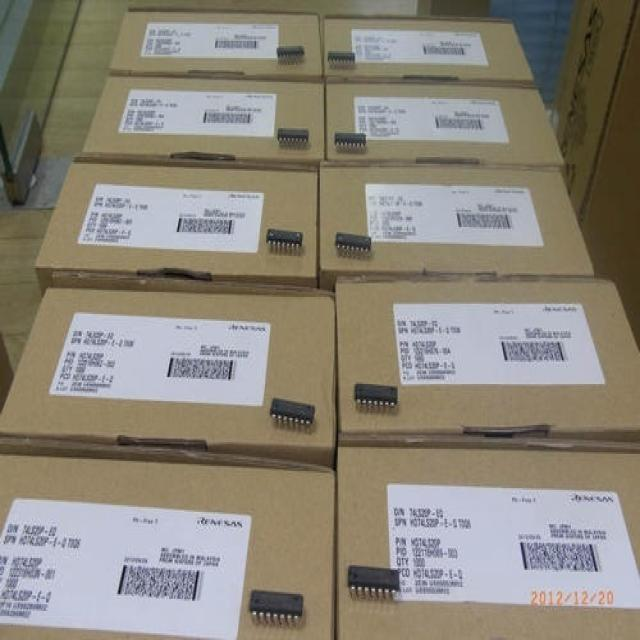box: (0, 447, 338, 638), (0, 277, 336, 467), (337, 447, 639, 638), (336, 276, 639, 452), (34, 158, 319, 296), (318, 165, 595, 294), (82, 74, 322, 163), (578, 5, 639, 355), (547, 2, 639, 218), (326, 83, 563, 165), (324, 15, 536, 87), (109, 10, 322, 80)
